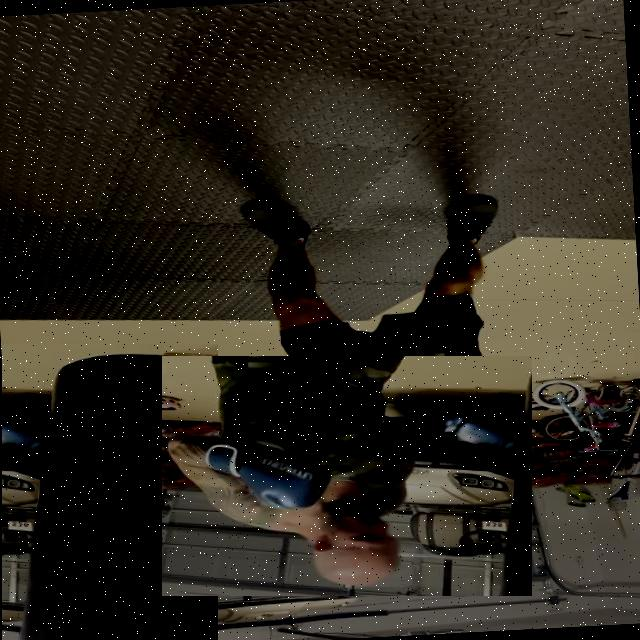punch: (162, 356, 532, 596)
